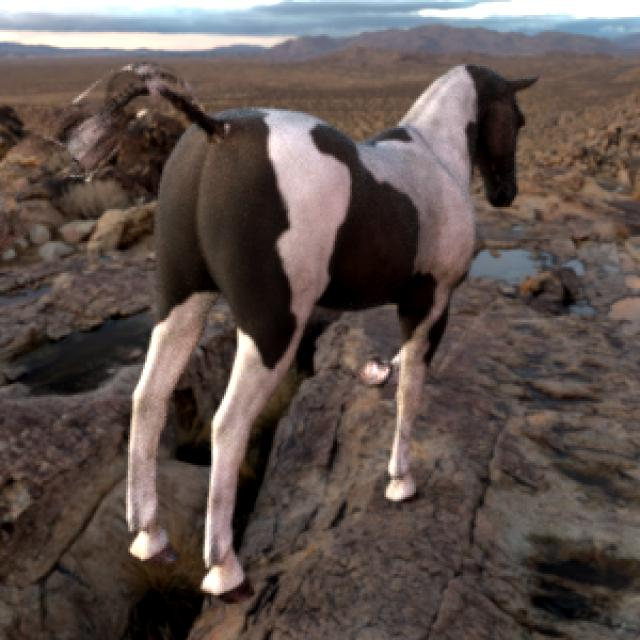horse: (66, 65, 534, 601)
